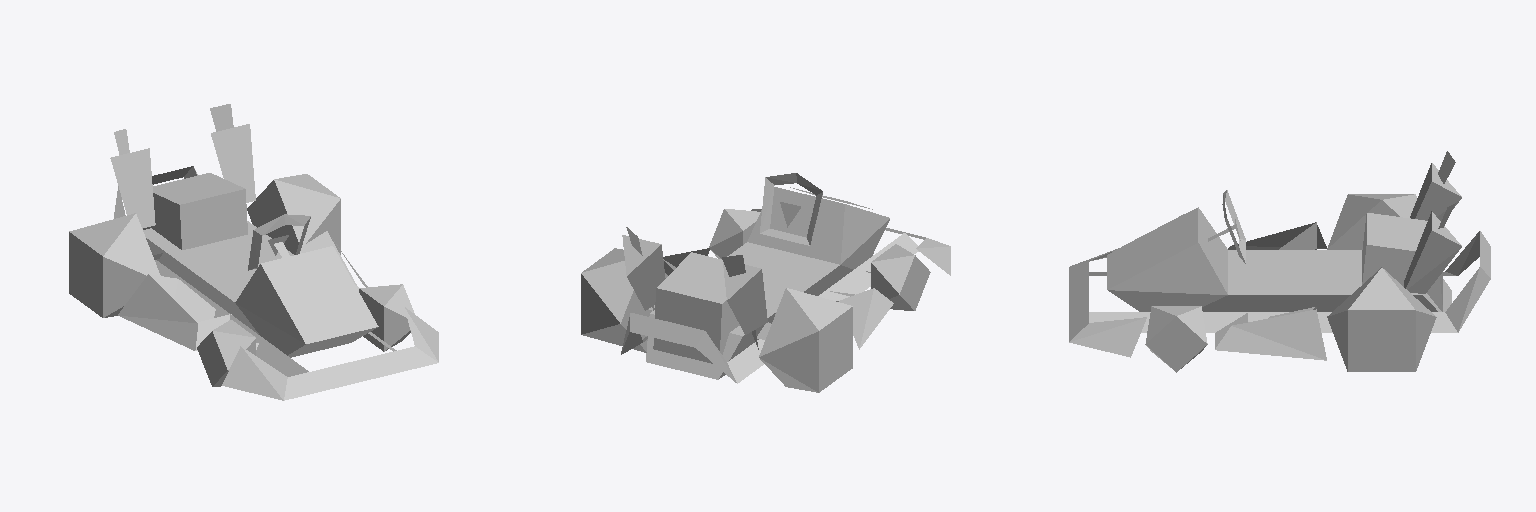
Rendered from kart_MR_a.obj.
3 renders of one model, left to right at view 1: azimuth 30°, elevation 25°; view 2: azimuth 150°, elevation 25°; view 3: azimuth 270°, elevation 25°, orthographic.
Visible parts, largest first — view 1: polygon1, polygon0, polygon0.001, polygon2; view 2: polygon1, polygon0, polygon0.001; view 3: polygon1, polygon0, polygon0.001, polygon2.
Part boxes in pixels (x1,y1,x2,y2): polygon1: (110,104,438,400); polygon0: (69,174,340,317); polygon0.001: (197,284,414,386); polygon2: (274,257,364,325); polygon1: (621,173,950,383); polygon0: (581,248,852,392); polygon0.001: (709,209,930,310); polygon1: (1069,151,1490,360); polygon0: (1327,194,1436,371); polygon0.001: (1145,306,1207,372); polygon2: (1122,214,1183,275).
Size of the model in its own units: 0.8706 by 0.5383 by 1.34.